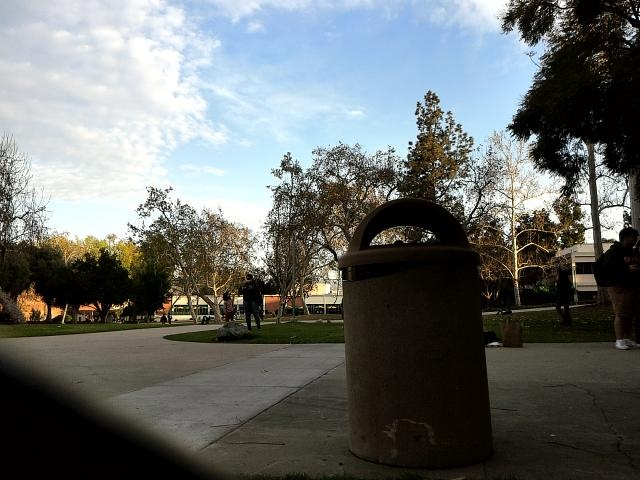trashcan: (332, 196, 494, 465)
